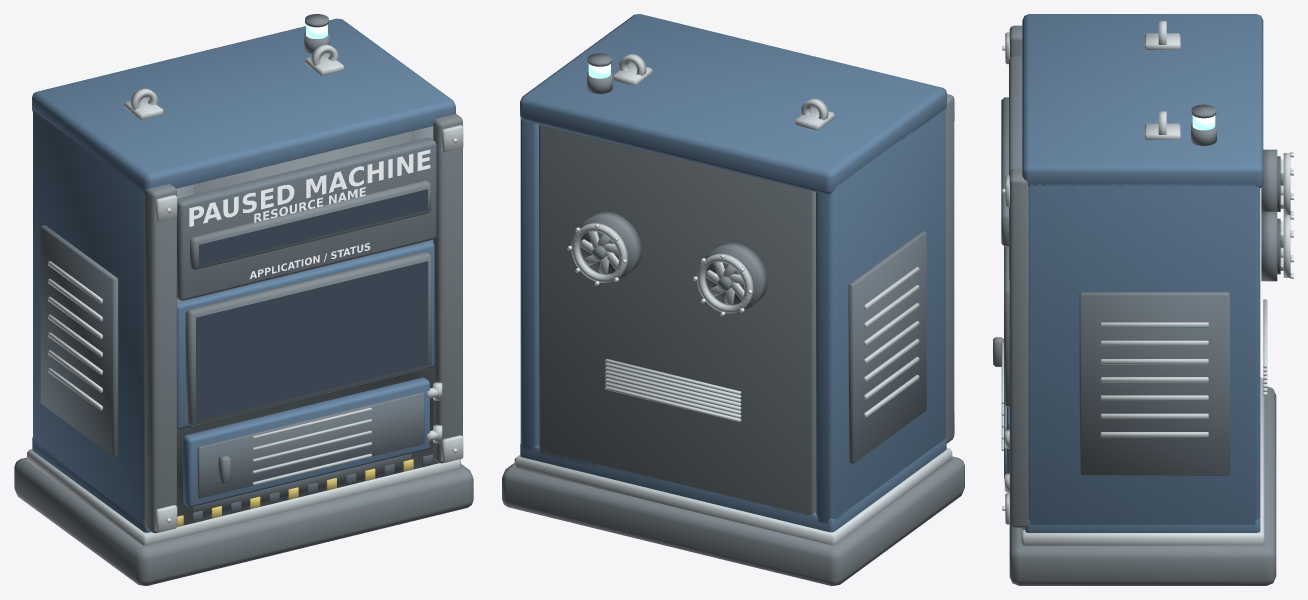
File: paused_machine_enhanced.glb
3 renders of one model, left to right at view 1: azimuth 30°, elevation 25°; view 2: azimuth 150°, elevation 25°; view 3: azimuth 270°, elevation 25°, orthographic. The views are drawn at different scales.
Visible parts, largest first — view 1: Roof_navy, LiveViewSurface_glass, SideWall_navy, Skid_frame, CornerPost_frame, FrontHeader_graphite, SideServicePanel_graphite, DoorMoving_Inset_graphite, DoorMoving_Panel_navy, SkidDeck_steel, LiveViewSurfaceFrame_frame, ResourceNameSurface_glass (+15 smaller); view 2: BackWall_frame, Roof_navy, SideWall_navy, Skid_frame, SideServicePanel_graphite, SkidDeck_steel, KickPlate_navy, RearFan_steel, RearVent_steel, CornerPost_frame, RearFan_frame, SideLouver_steel (+3 smaller); view 3: SideWall_navy, Roof_navy, SideServicePanel_graphite, Skid_frame, CornerPost_frame, SideLouver_steel, SkidDeck_steel, RearFan_frame, KickPlate_navy, FrontHeader_graphite, RearFan_steel, ResourceNameSurfaceFrame_frame (+7 smaller).
Part boxes in pixels (bbox=[...]): Roof_navy: bbox=[32, 18, 455, 194]; LiveViewSurface_glass: bbox=[196, 261, 428, 421]; SideWall_navy: bbox=[33, 111, 144, 523]; Skid_frame: bbox=[14, 457, 473, 585]; CornerPost_frame: bbox=[144, 114, 462, 533]; FrontHeader_graphite: bbox=[177, 137, 436, 300]; SideServicePanel_graphite: bbox=[40, 225, 118, 456]; DoorMoving_Inset_graphite: bbox=[197, 392, 424, 498]; DoorMoving_Panel_navy: bbox=[183, 377, 429, 506]; SkidDeck_steel: bbox=[27, 449, 460, 545]; LiveViewSurfaceFrame_frame: bbox=[185, 251, 431, 425]; ResourceNameSurface_glass: bbox=[199, 189, 427, 265]; BackWall_frame: bbox=[539, 124, 815, 518]; Roof_navy: bbox=[520, 14, 946, 194]; SideWall_navy: bbox=[520, 109, 945, 523]; Skid_frame: bbox=[502, 456, 964, 585]; SideServicePanel_graphite: bbox=[848, 230, 926, 463]; SkidDeck_steel: bbox=[514, 447, 952, 545]; KickPlate_navy: bbox=[520, 437, 946, 532]; RearFan_steel: bbox=[571, 223, 753, 313]; RearVent_steel: bbox=[605, 359, 741, 422]; CornerPost_frame: bbox=[946, 94, 954, 443]; RearFan_frame: bbox=[579, 211, 767, 311]; SideLouver_steel: bbox=[864, 267, 919, 417]; SideWall_navy: bbox=[1028, 184, 1260, 524]; Roof_navy: bbox=[1022, 14, 1263, 188]; SideServicePanel_graphite: bbox=[1079, 292, 1229, 475]; Skid_frame: bbox=[1009, 386, 1276, 585]; CornerPost_frame: bbox=[1009, 25, 1028, 527]; SideLouver_steel: bbox=[1100, 322, 1208, 437]; SkidDeck_steel: bbox=[1021, 377, 1264, 545]; RearFan_frame: bbox=[1261, 149, 1277, 281]; KickPlate_navy: bbox=[1025, 518, 1260, 532]; FrontHeader_graphite: bbox=[1009, 56, 1022, 279]; RearFan_steel: bbox=[1280, 153, 1290, 277]; ResourceNameSurfaceFrame_frame: bbox=[1001, 97, 1008, 246].
Size of the model in its own units: 2 by 2.48 by 1.51.
